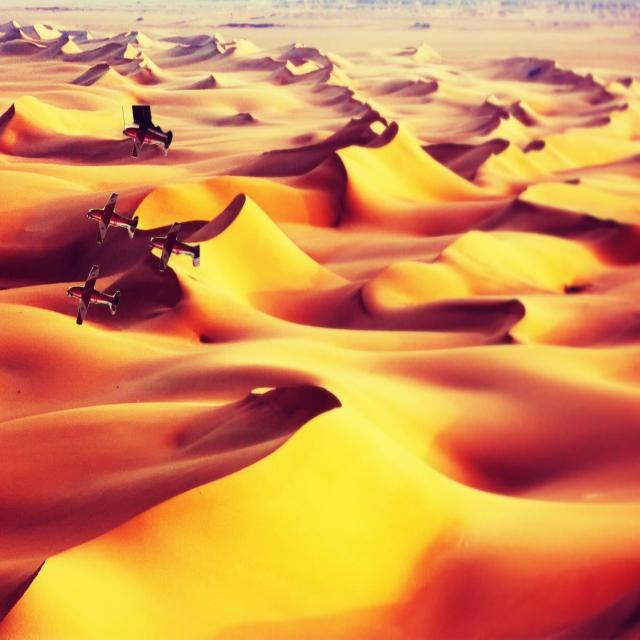airplane: (66, 264, 121, 324), (84, 191, 138, 248), (147, 219, 200, 273), (121, 103, 172, 158)
